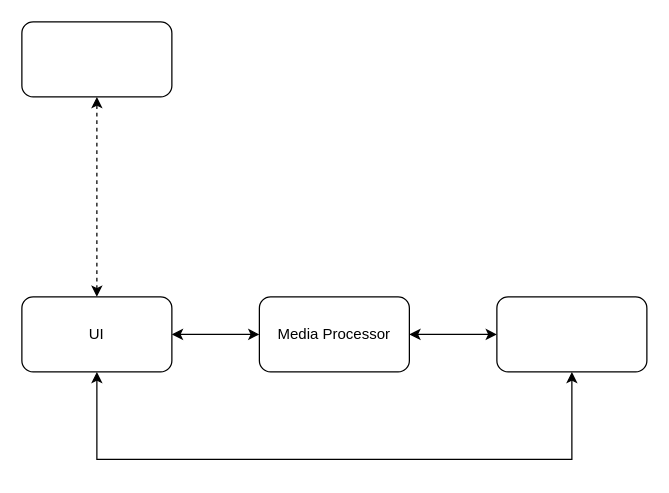
Some shapes in this 669 by 493 pixel diagram are drawn without their labels. Here are the shapes that lost their labels. From the top down, the centre of each, then its label:
(96,59): Data Logging
(571,334): Communication Handler
